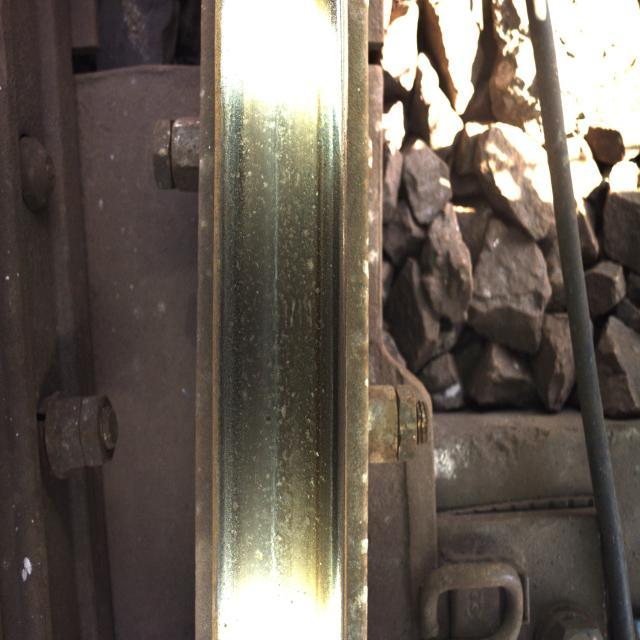normal: (224, 22, 342, 624)
